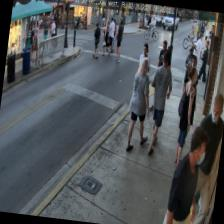person: (179, 89, 224, 224), (160, 122, 207, 224), (142, 48, 176, 156), (124, 56, 156, 151), (170, 66, 198, 167), (175, 55, 200, 143), (149, 38, 173, 112), (130, 42, 152, 119)
